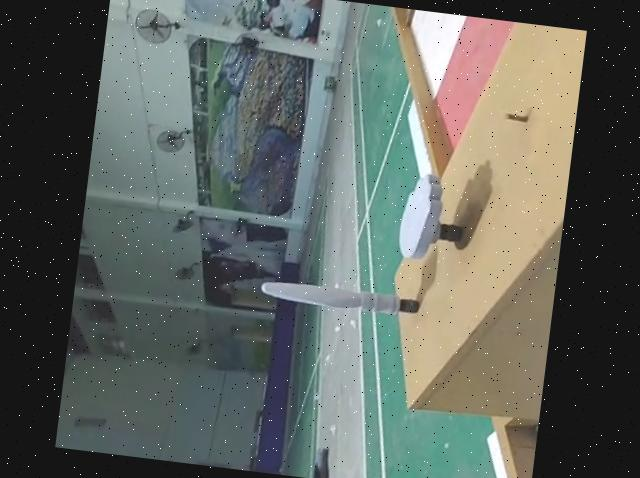Hand: (393, 169, 473, 264)
Sph: (257, 272, 425, 323)
